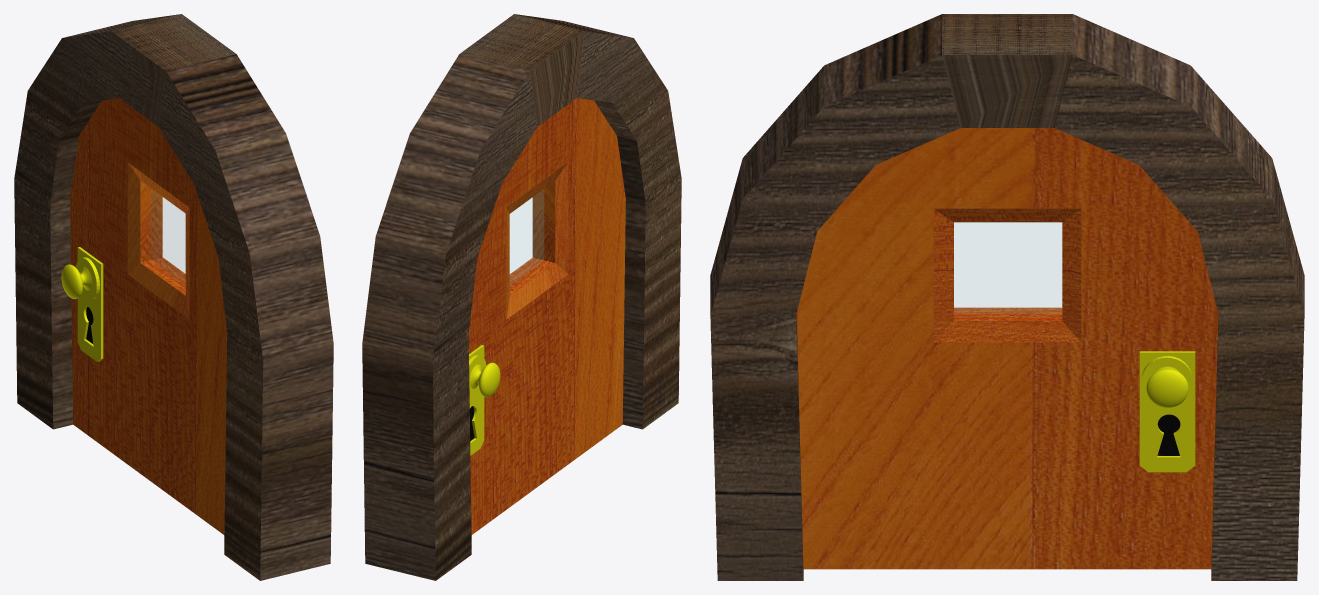
The model's file is PMWDoor.fbx.
3 views of the same model, side by side, from view 1: azimuth 30°, elevation 25°; view 2: azimuth 150°, elevation 25°; view 3: azimuth 270°, elevation 25° (orthographic). The views are drawn at different scales.
Parts seen in each view (by area): view 1: Gate, Door, Doorknob, Window; view 2: Gate, Door, Window, Doorknob; view 3: Door, Gate, Window, Doorknob.
Part boxes in pixels (x1,y1,x2,y2): Gate: (14,14,333,580); Door: (70,98,227,534); Doorknob: (61,247,103,361); Window: (151,189,184,283); Gate: (362,14,681,580); Door: (468,98,625,534); Window: (510,190,543,284); Doorknob: (469,345,500,455); Door: (796,128,1218,569); Gate: (710,14,1304,580); Window: (954,223,1061,313); Doorknob: (1139,351,1195,472).
Size of the model in its own units: 53.23 by 275 by 281.
